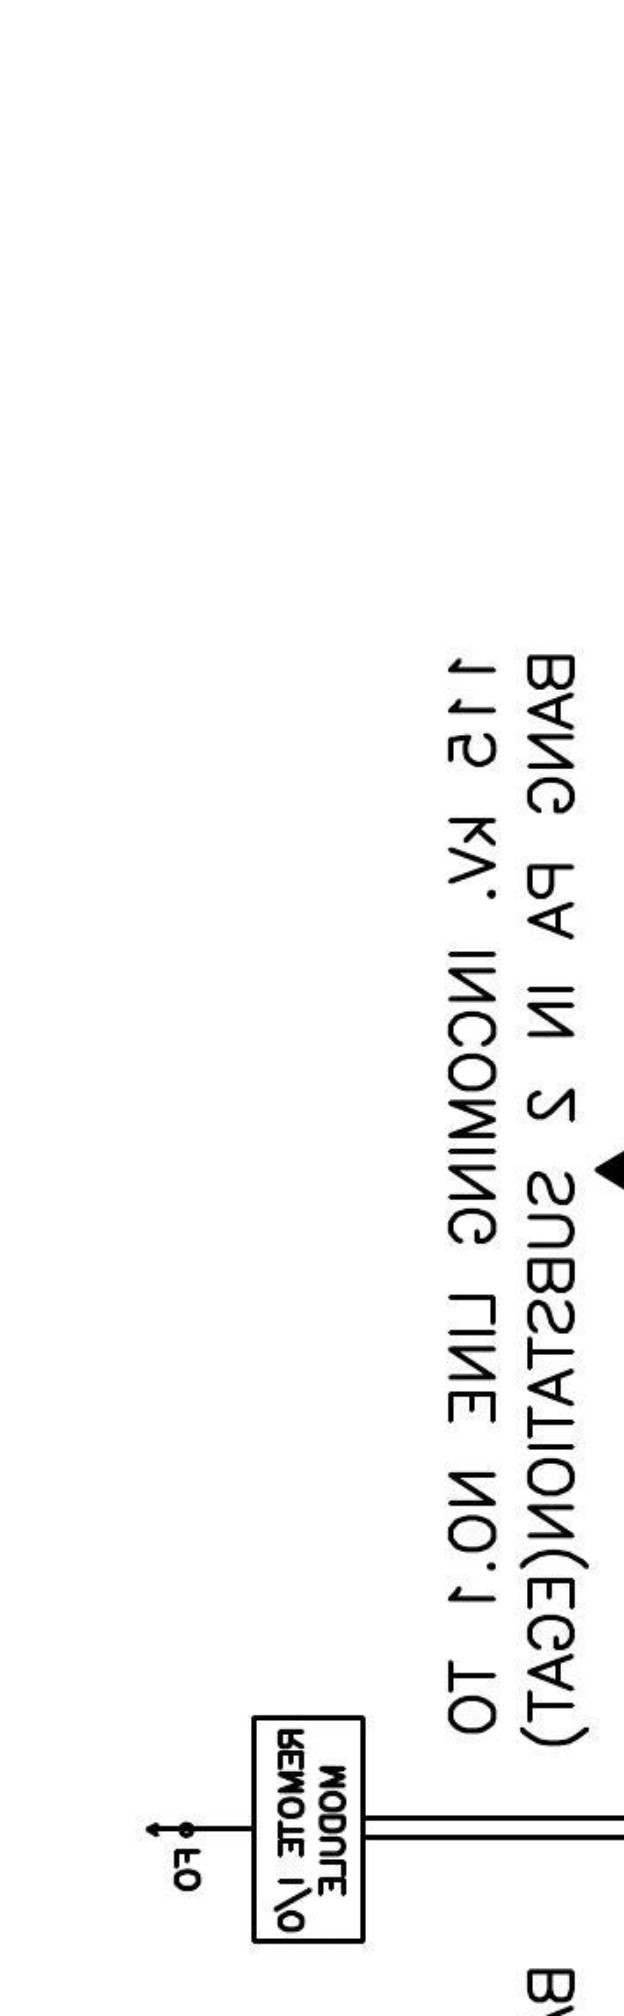remote_io_module: (251, 1714, 367, 1944)
